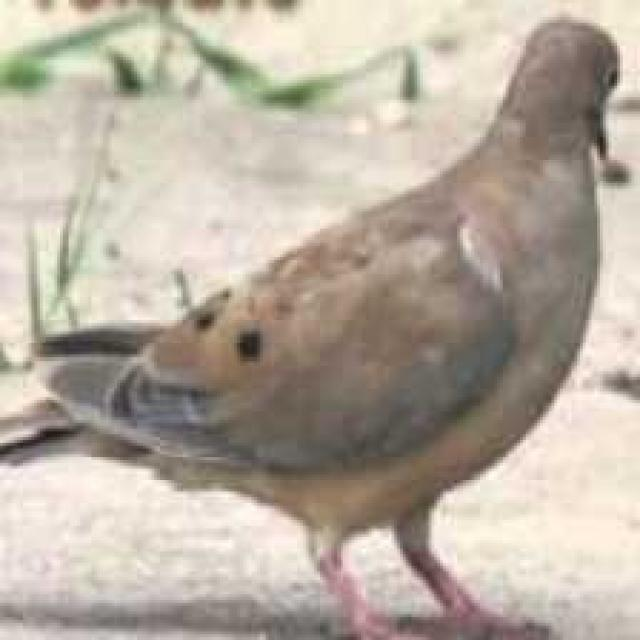bird: (7, 10, 635, 640)
